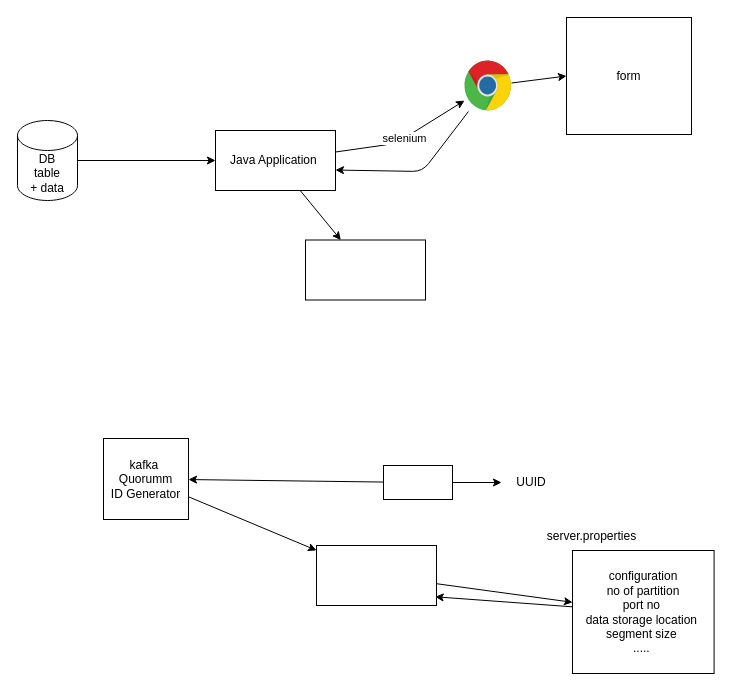
Image size: 732x691. Some labels were removed from this diagram. The centre of each missing label's shape, as x and y in pixels:
"host ur kakfa" goes at [376,575].
"kafka" goes at [365,269].
"kafka 9092" goes at [417,482].
